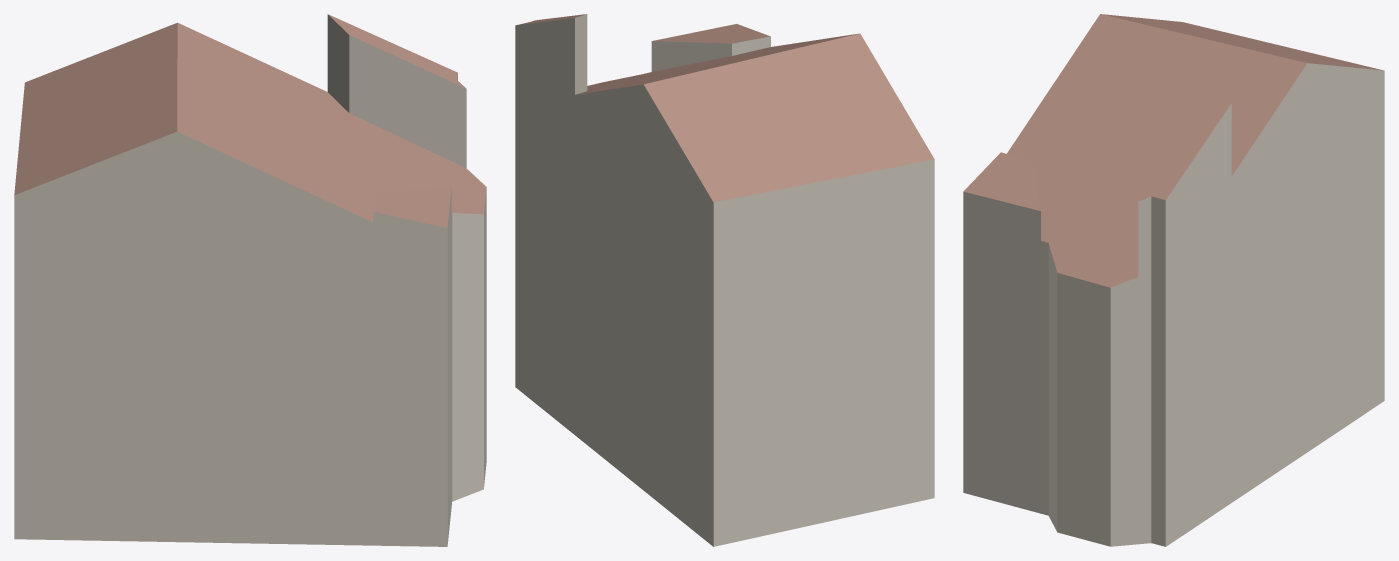
3 views of the same model, side by side, from view 1: azimuth 30°, elevation 25°; view 2: azimuth 150°, elevation 25°; view 3: azimuth 270°, elevation 25° (orthographic). The views are drawn at different scales.
Size of the model in its own units: 11.72 by 10.91 by 10.42.
